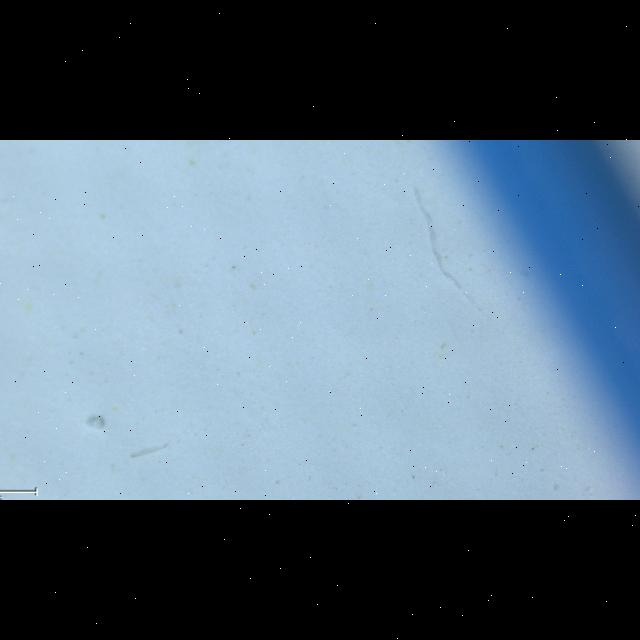Fibre: (414, 189, 462, 291), (131, 444, 168, 458)
Fragment: (86, 416, 105, 429)
